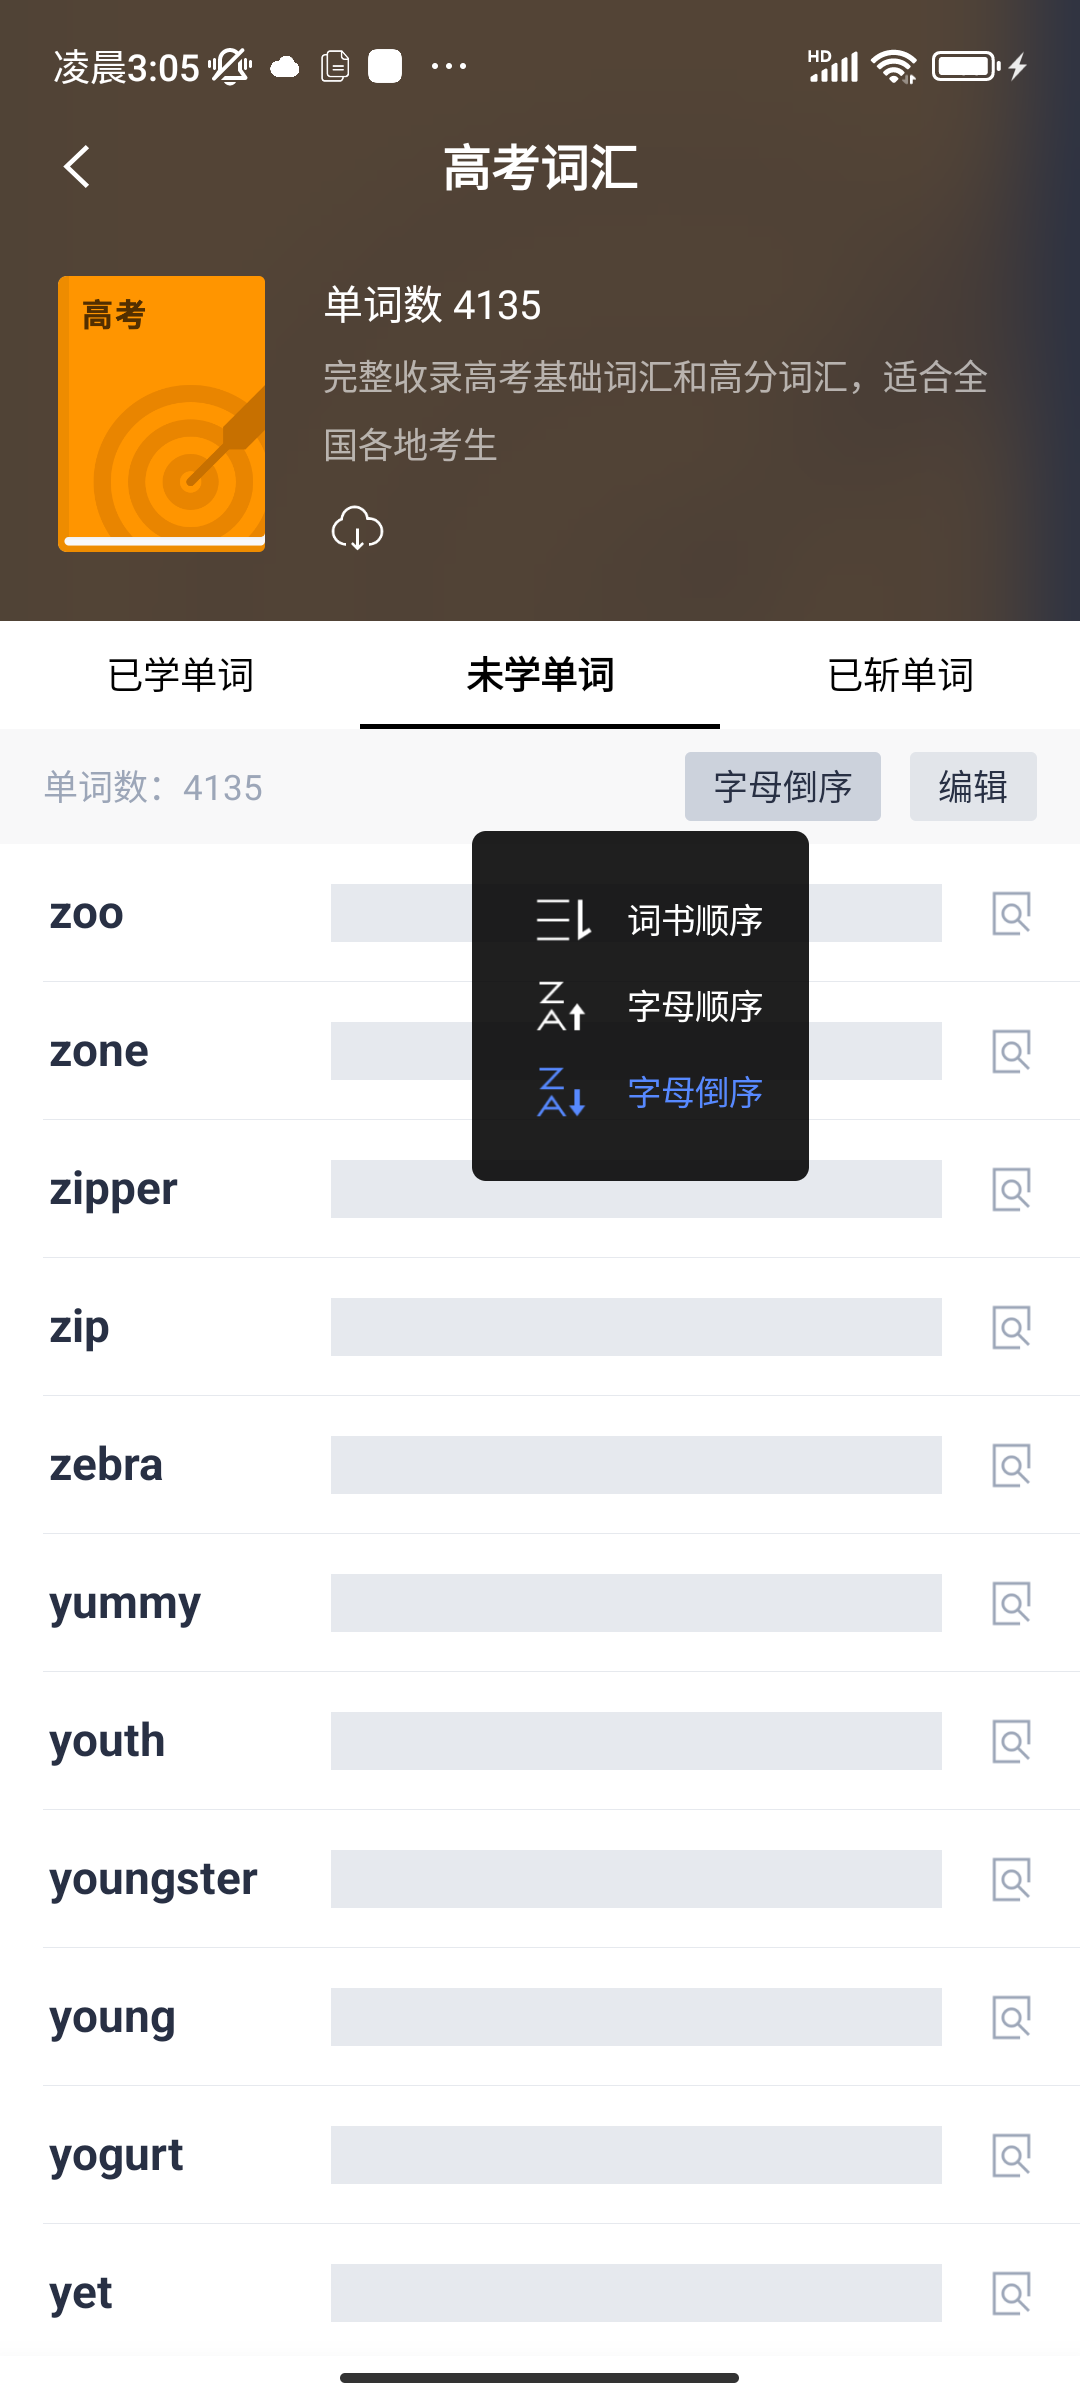ui_group: (476, 830, 805, 1180)
